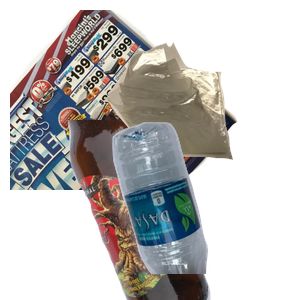glass: (65, 120, 300, 300)
paper: (10, 10, 240, 190)
plastic: (110, 120, 300, 300)
trash: (101, 40, 300, 192)
